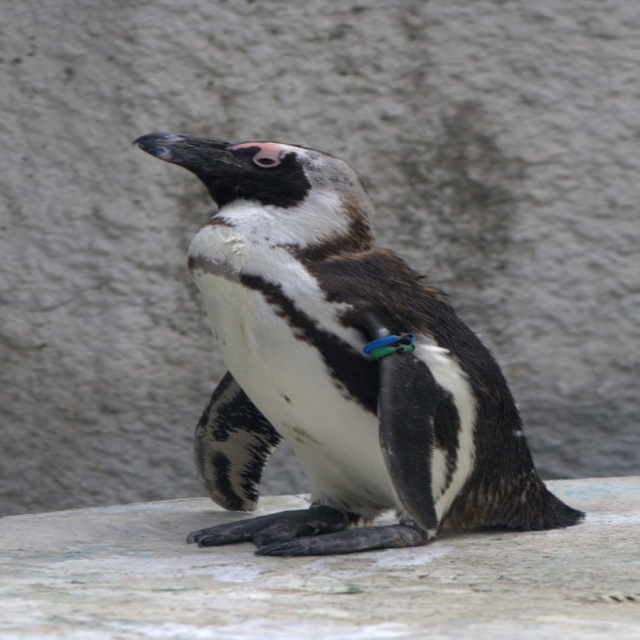Penguin: (128, 133, 582, 557)
